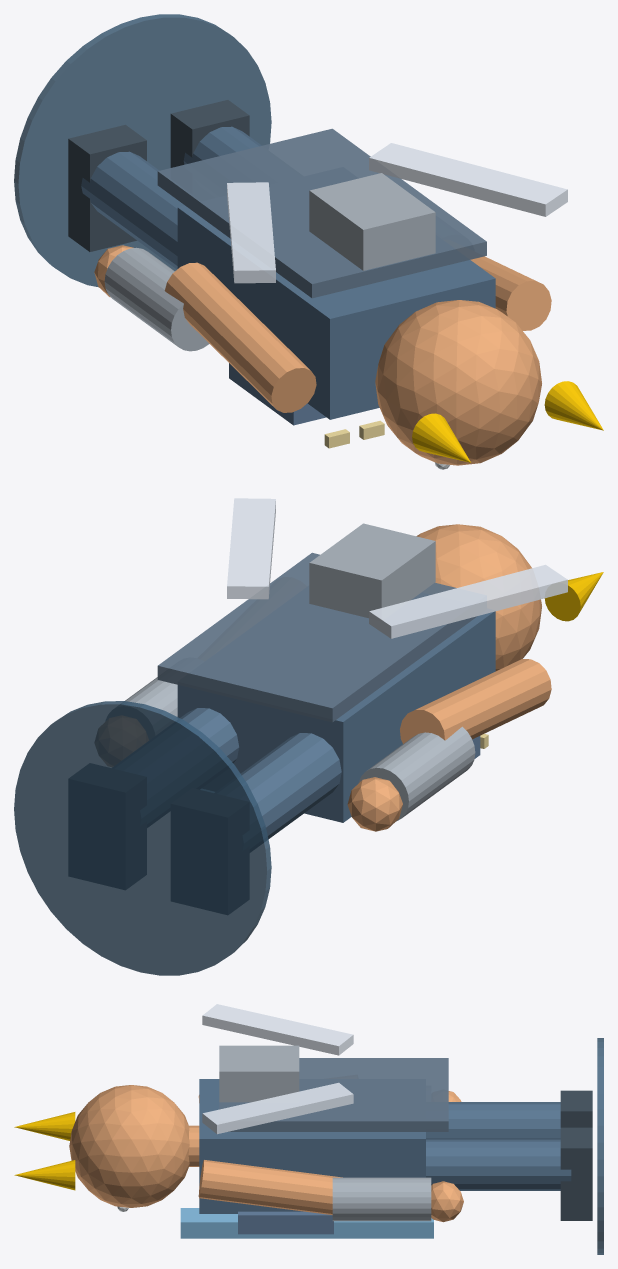
File: SW_NPC_011_kael_quillspire.glb
3 renders of one model, top to bottom at view 1: azimuth 30°, elevation 25°; view 2: azimuth 150°, elevation 25°; view 3: azimuth 270°, elevation 25°, orthographic. The views are drawn at different scales.
Visible parts, largest first — view 1: round_base_plate, head, torso_uniform, storm_cloak, left_upper_arm, wingpack_core, left_leg, right_wing_rig, left_forearm_gauntlet, left_boot, left_wing_rig, right_upper_arm (+5 smaller); view 2: round_base_plate, storm_cloak, torso_uniform, wingpack_core, head, left_upper_arm, left_wing_rig, left_leg, left_forearm_gauntlet, right_wing_rig, left_hand, right_leg (+2 smaller); view 3: head, torso_uniform, storm_cloak, right_leg, right_upper_arm, right_forearm_gauntlet, left_leg, wingpack_core, rank_sash, left_wing_rig, right_wing_rig, right_boot (+7 smaller).
Boxes of the visible parts, x1,y1,x2,y2 form: round_base_plate: (14, 14, 271, 287); head: (375, 300, 541, 465); torso_uniform: (177, 205, 495, 419); storm_cloak: (157, 128, 486, 298); left_upper_arm: (164, 262, 316, 412); wingpack_core: (309, 173, 435, 270); left_leg: (81, 151, 184, 269); right_wing_rig: (369, 143, 567, 216); left_forearm_gauntlet: (104, 247, 209, 351); left_boot: (68, 124, 146, 251); left_wing_rig: (227, 182, 275, 283); right_upper_arm: (470, 256, 551, 330); round_base_plate: (14, 701, 271, 975); storm_cloak: (157, 552, 477, 722); torso_uniform: (177, 611, 495, 822); wingpack_core: (309, 523, 435, 618); head: (416, 524, 541, 670); left_upper_arm: (400, 659, 551, 743); left_wing_rig: (369, 564, 567, 638); left_leg: (241, 733, 341, 839); left_forearm_gauntlet: (358, 726, 475, 821); right_wing_rig: (227, 498, 275, 599); left_hand: (347, 777, 402, 831); right_leg: (180, 708, 239, 763); head: (69, 1085, 189, 1207); torso_uniform: (199, 1079, 425, 1213); storm_cloak: (219, 1058, 448, 1131); right_leg: (426, 1139, 571, 1190); right_upper_arm: (198, 1160, 342, 1215); right_forearm_gauntlet: (332, 1177, 431, 1221); left_leg: (426, 1102, 560, 1139); wingpack_core: (219, 1045, 299, 1102); rank_sash: (180, 1208, 433, 1238); left_wing_rig: (202, 1004, 353, 1055); right_wing_rig: (202, 1082, 353, 1134); right_boot: (560, 1127, 592, 1220).
Size of the model in its own units: 1.05 by 0.798 by 2.17.
